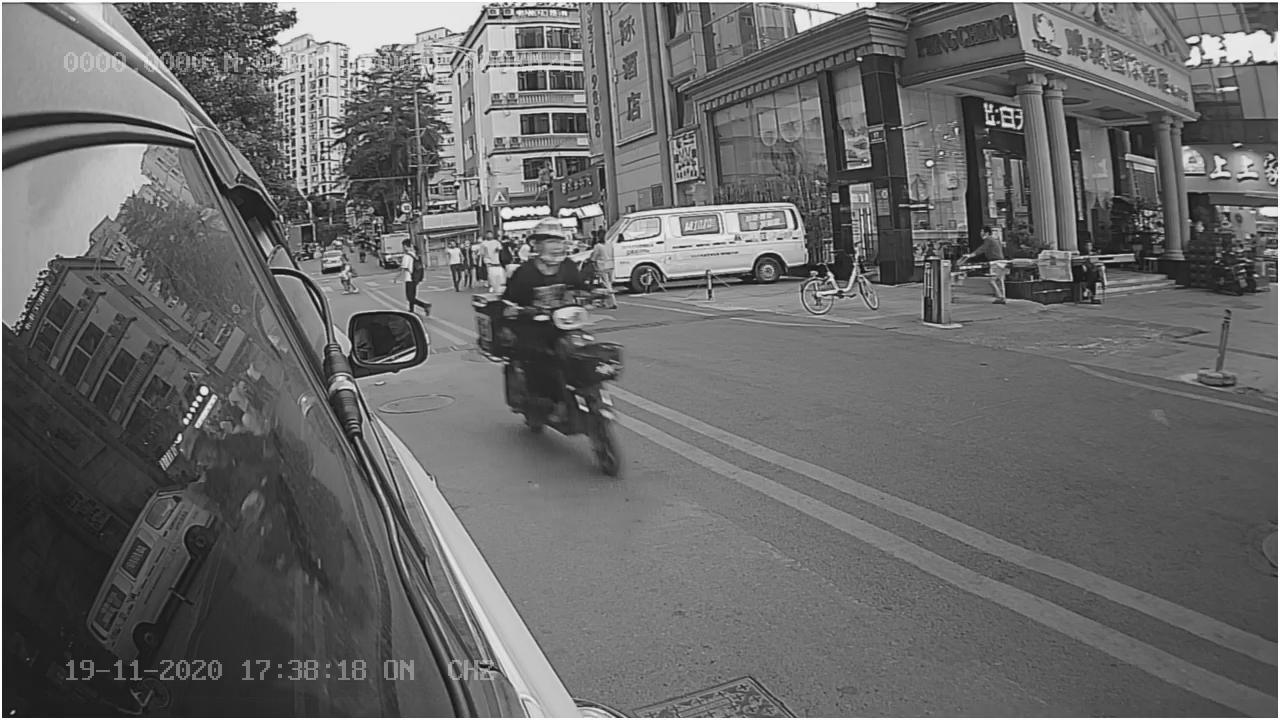person: (492, 210, 602, 296)
